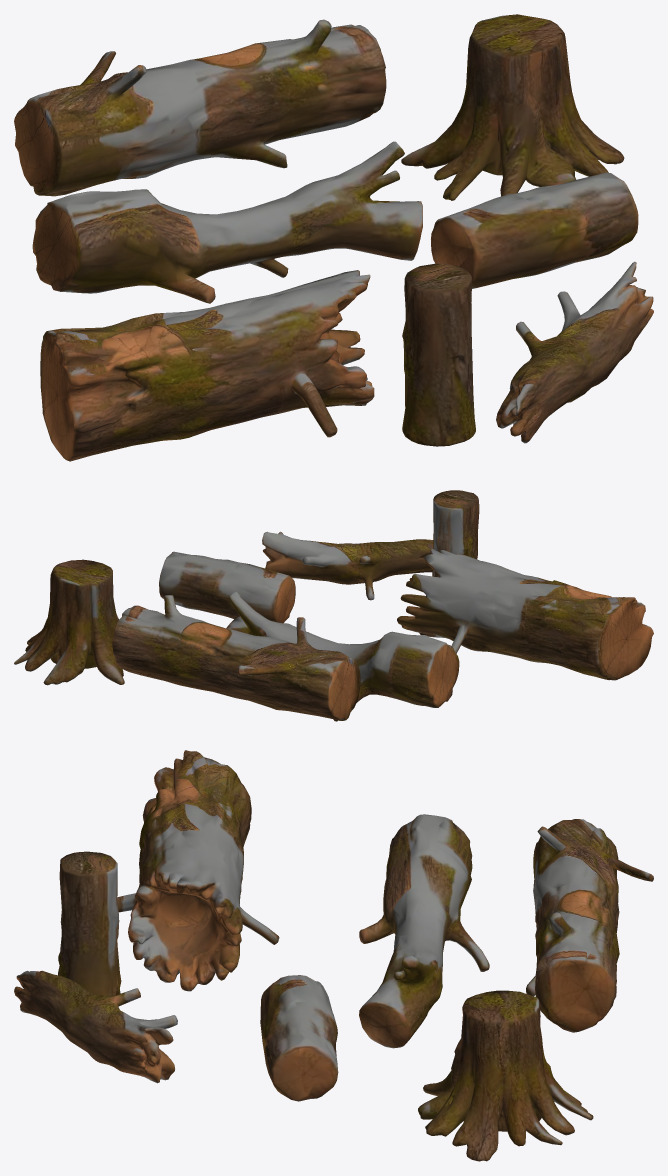
File: troncos.glb
The picture shows the model from 3 angles, top to bottom: view 1: azimuth 30°, elevation 25°; view 2: azimuth 150°, elevation 25°; view 3: azimuth 270°, elevation 25°; orthographic projection. The views are drawn at different scales.
Parts seen in each view (by area): view 1: tripo_node_0b411cdc-02c7-4625-9d89-7d146348c9ac; view 2: tripo_node_0b411cdc-02c7-4625-9d89-7d146348c9ac; view 3: tripo_node_0b411cdc-02c7-4625-9d89-7d146348c9ac.
Part boxes in pixels (<box>): tripo_node_0b411cdc-02c7-4625-9d89-7d146348c9ac: <box>14,14,653,461</box>; tripo_node_0b411cdc-02c7-4625-9d89-7d146348c9ac: <box>14,490,653,721</box>; tripo_node_0b411cdc-02c7-4625-9d89-7d146348c9ac: <box>14,750,653,1161</box>.
Size of the model in its own units: 0.9997 by 0.2363 by 0.8705.
1 material, 1 textured.
